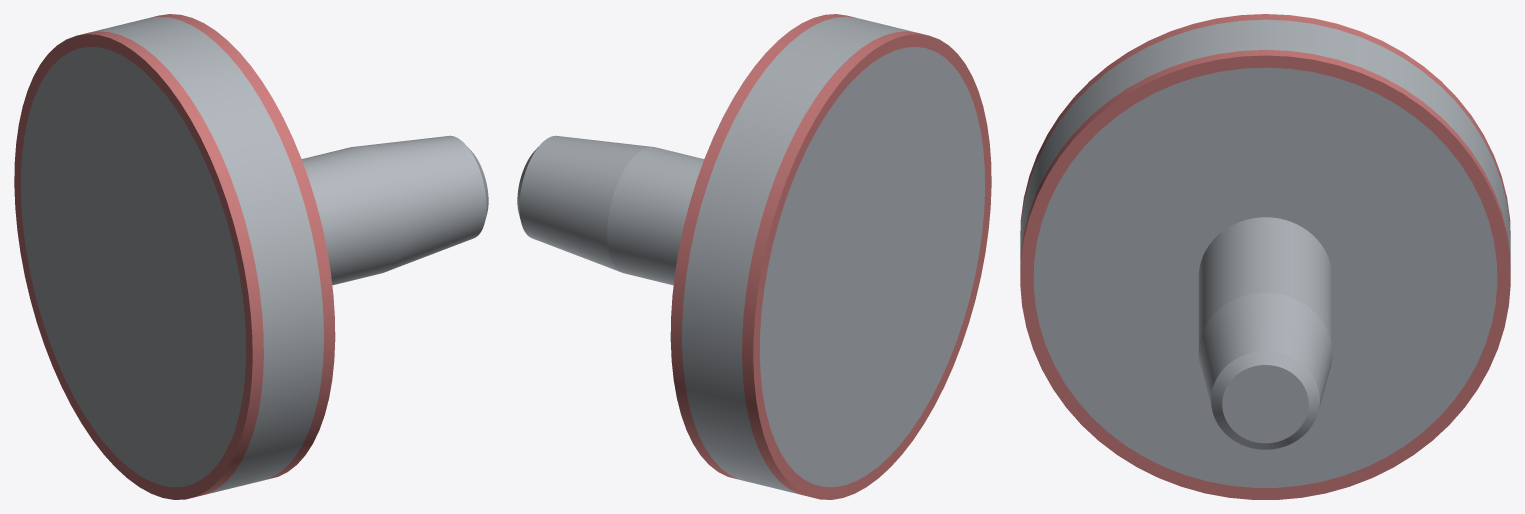
Rendered from step_02.glb.
The picture shows the model from 3 angles, left to right: view 1: azimuth 30°, elevation 25°; view 2: azimuth 150°, elevation 25°; view 3: azimuth 270°, elevation 25°; orthographic projection. The views are drawn at different scales.
Parts seen in each view (by area): view 1: part__crank, removed__crank; view 2: part__crank, removed__crank; view 3: part__crank, removed__crank.
Boxes of the visible parts, x1=… form: part__crank: x1=21, y1=16, x2=488, y2=494; removed__crank: x1=14, y1=14, x2=335, y2=499; part__crank: x1=517, y1=16, x2=984, y2=494; removed__crank: x1=670, y1=14, x2=991, y2=499; part__crank: x1=1020, y1=19, x2=1510, y2=487; removed__crank: x1=1020, y1=14, x2=1510, y2=499.
Size of the model in its own units: 44.5 by 54.97 by 54.98.
